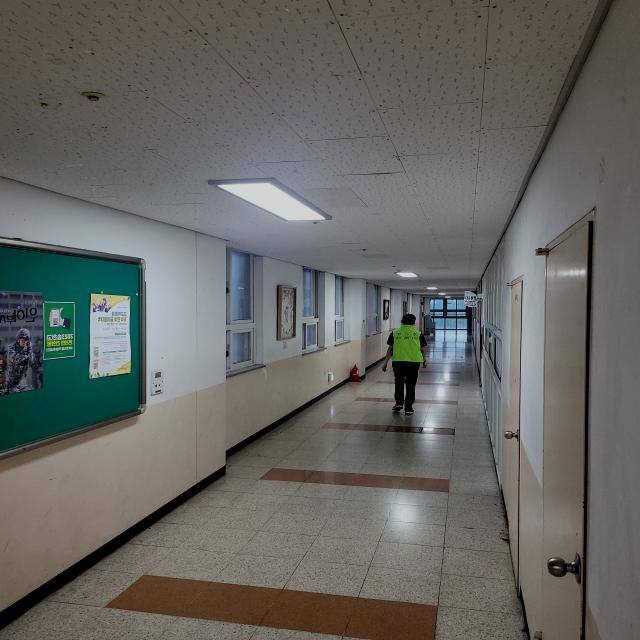weston_spy: (383, 315, 431, 373)
